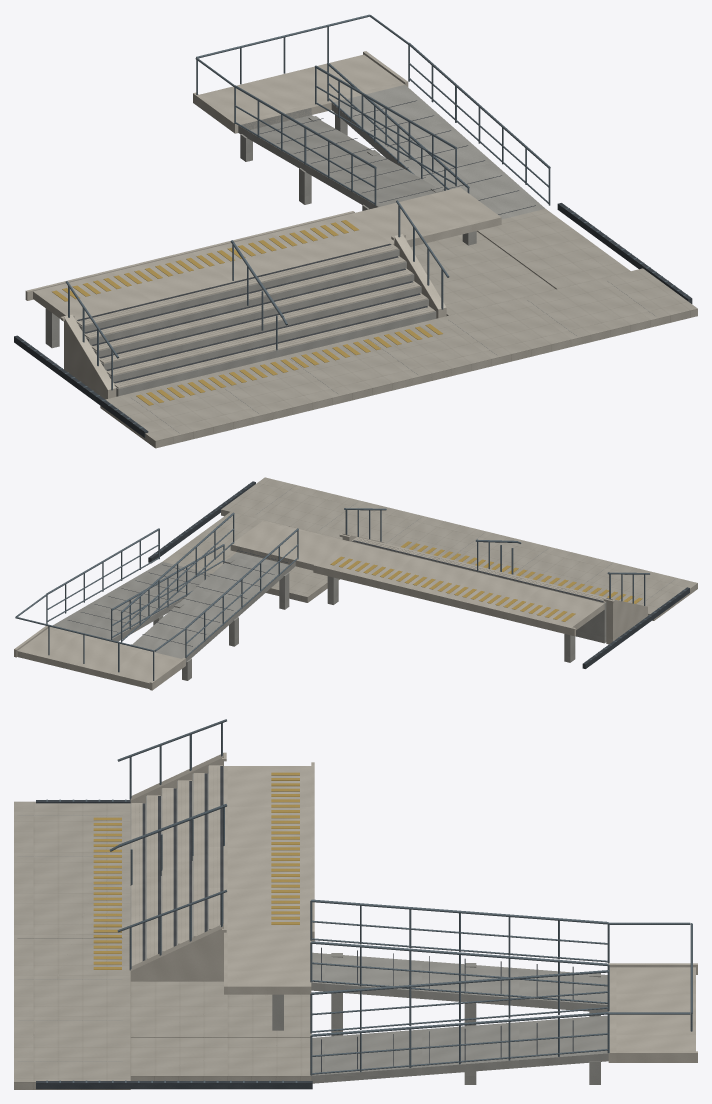
3 views of the same model, one above another, from view 1: azimuth 30°, elevation 25°; view 2: azimuth 150°, elevation 25°; view 3: azimuth 270°, elevation 25° (orthographic). The views are drawn at different scales.
Visible parts, largest first — view 1: VIS_Lower_Paving_Transition_paving, VIS_Stair_Concrete_Core_concrete, VIS_Station_Upper_Landing_limestone, VIS_Ramp_Lower_Flight_concrete, VIS_Ramp_Upper_Return_Flight_concrete, VIS_Ramp_Intermediate_Turn_Landing_limestone, VIS_Central_Street_Grade_Infill_paving, VIS_Ramp_Lower_Approach_paving, VIS_Ramp_Upper_Connection_Landing_limestone, VIS_Tactile_Directional_Pad_tactile, VIS_Stair_Tread_Inlay_paving, VIS_Ramp_Handrail_Post_steel (+24 smaller); view 2: VIS_Lower_Paving_Transition_paving, VIS_Station_Upper_Landing_limestone, VIS_Ramp_Upper_Return_Flight_concrete, VIS_Ramp_Intermediate_Turn_Landing_limestone, VIS_Ramp_Lower_Flight_concrete, VIS_Ramp_Upper_Connection_Landing_limestone, VIS_Tactile_Directional_Pad_tactile, VIS_Station_Upper_Threshold_limestone, VIS_Ramp_Lower_Approach_paving, VIS_Stair_06_Tread_limestone, VIS_Ramp_Handrail_Post_steel, VIS_Ramp_Continuous_Handrail_steel (+14 smaller); view 3: VIS_Lower_Paving_Transition_paving, VIS_Ramp_Lower_Flight_concrete, VIS_Station_Upper_Landing_limestone, VIS_Ramp_Upper_Return_Flight_concrete, VIS_Central_Street_Grade_Infill_paving, VIS_Ramp_Lower_Approach_paving, VIS_Ramp_Intermediate_Turn_Landing_limestone, VIS_Tactile_Directional_Pad_tactile, VIS_Ramp_Upper_Connection_Landing_limestone, VIS_Ramp_Continuous_Handrail_steel, VIS_East_Stair_Sidewall_limestone, VIS_Ramp_Guard_Midrail_steel (+21 smaller).
Boxes of the visible parts, x1,y1,x2,y2 form: VIS_Lower_Paving_Transition_paving: (100,268,697,448); VIS_Stair_Concrete_Core_concrete: (78,249,436,396); VIS_Station_Upper_Landing_limestone: (33,214,390,321); VIS_Ramp_Lower_Flight_concrete: (331,85,545,219); VIS_Ramp_Upper_Return_Flight_concrete: (238,108,442,209); VIS_Ramp_Intermediate_Turn_Landing_limestone: (199,54,404,129); VIS_Central_Street_Grade_Infill_paving: (410,231,555,315); VIS_Ramp_Lower_Approach_paving: (477,209,630,289); VIS_Ramp_Upper_Connection_Landing_limestone: (351,187,501,246); VIS_Tactile_Directional_Pad_tactile: (52,220,442,405); VIS_Stair_Tread_Inlay_paving: (81,246,429,385); VIS_Ramp_Handrail_Post_steel: (234,45,550,205); VIS_Lower_Paving_Transition_paving: (221,477,697,620); VIS_Station_Upper_Landing_limestone: (319,542,604,629); VIS_Ramp_Upper_Return_Flight_concrete: (133,546,295,662); VIS_Ramp_Intermediate_Turn_Landing_limestone: (17,627,181,688); VIS_Ramp_Lower_Flight_concrete: (53,562,211,641); VIS_Ramp_Upper_Connection_Landing_limestone: (230,520,350,570); VIS_Tactile_Directional_Pad_tactile: (330,541,642,621); VIS_Station_Upper_Threshold_limestone: (313,564,575,636); VIS_Ramp_Lower_Approach_paving: (162,512,288,573); VIS_Stair_06_Tread_limestone: (351,537,607,602); VIS_Ramp_Handrail_Post_steel: (46,514,298,658); VIS_Ramp_Continuous_Handrail_steel: (46,512,298,628); VIS_Lower_Paving_Transition_paving: (14,801,130,1089); VIS_Ramp_Lower_Flight_concrete: (311,1015,608,1083); VIS_Station_Upper_Landing_limestone: (224,766,311,930); VIS_Ramp_Upper_Return_Flight_concrete: (311,952,608,1012); VIS_Central_Street_Grade_Infill_paving: (130,981,311,1037); VIS_Ramp_Lower_Approach_paving: (130,1038,311,1080); VIS_Ramp_Intermediate_Turn_Landing_limestone: (608,967,695,1051); VIS_Tactile_Directional_Pad_tactile: (93,772,299,969); VIS_Ramp_Upper_Connection_Landing_limestone: (224,930,311,994); VIS_Ramp_Continuous_Handrail_steel: (311,899,608,1036); VIS_East_Stair_Sidewall_limestone: (130,923,223,981); VIS_Ramp_Guard_Midrail_steel: (311,920,608,1056).
Bounding box in the file's own units: 13.79 × 2.23 × 14.08.
7 materials, 7 textured.
